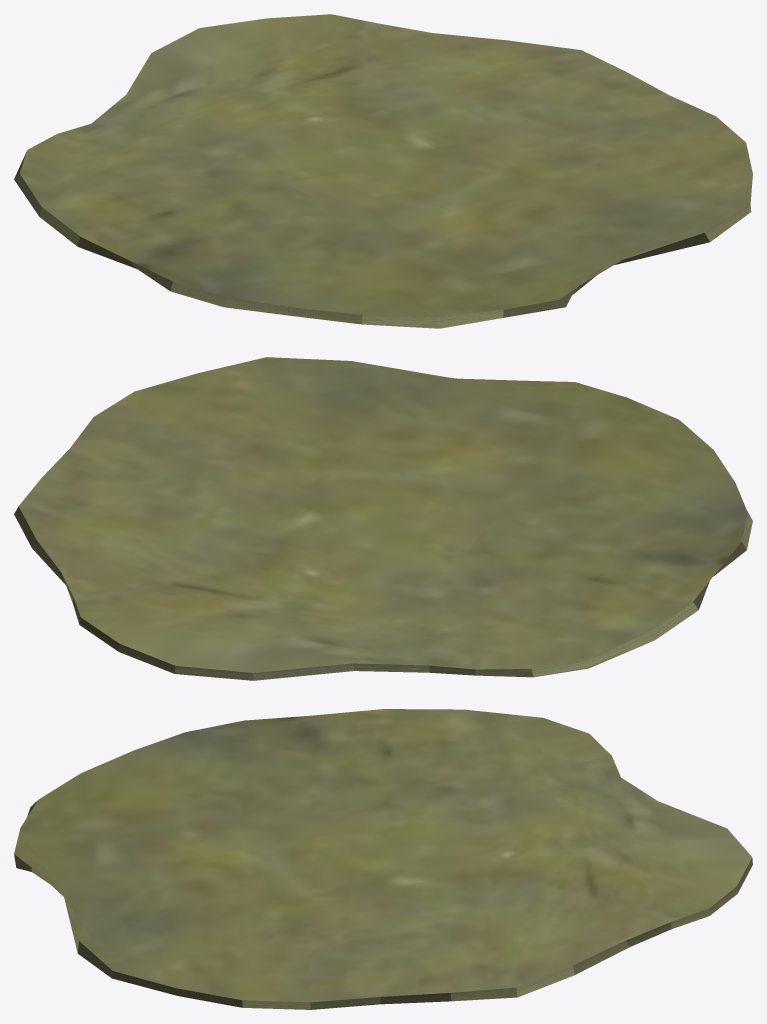
Rendered from snot.glb.
3 renders of one model, top to bottom at view 1: azimuth 30°, elevation 25°; view 2: azimuth 150°, elevation 25°; view 3: azimuth 270°, elevation 25°, orthographic. The views are drawn at different scales.
Parts seen in each view (by area): view 1: Cylinder; view 2: Cylinder; view 3: Cylinder.
Boxes of the visible parts, <box> form: Cylinder: <box>14,14,752,328</box>; Cylinder: <box>14,357,752,680</box>; Cylinder: <box>14,709,752,1009</box>.
Size of the model in its own units: 1.92 by 0.0452 by 2.03.
Materials: 1 (1 with a texture image).
